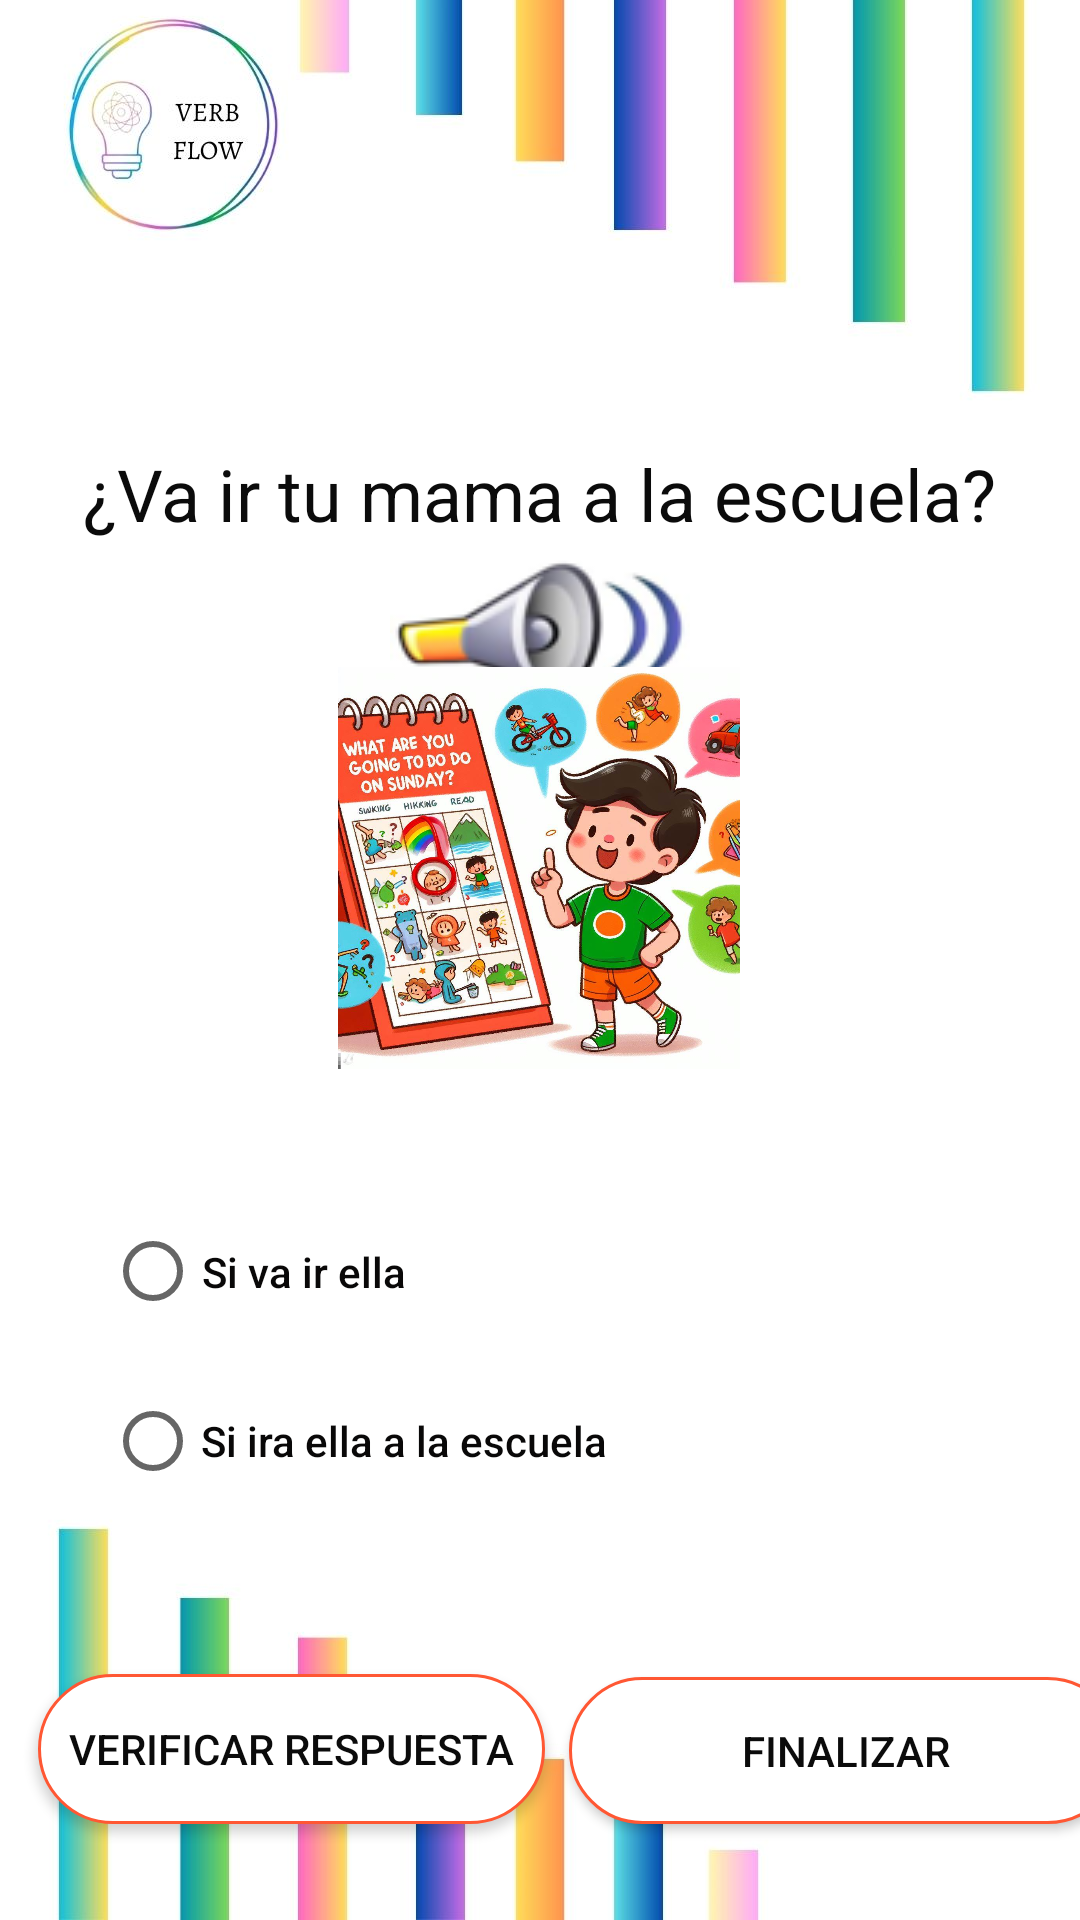

Icon click points for this 1080×1920 phone screenshot, format [x,y]:
altavoz: [539,615]
